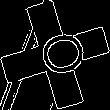O_W: (24, 27, 86, 83)
